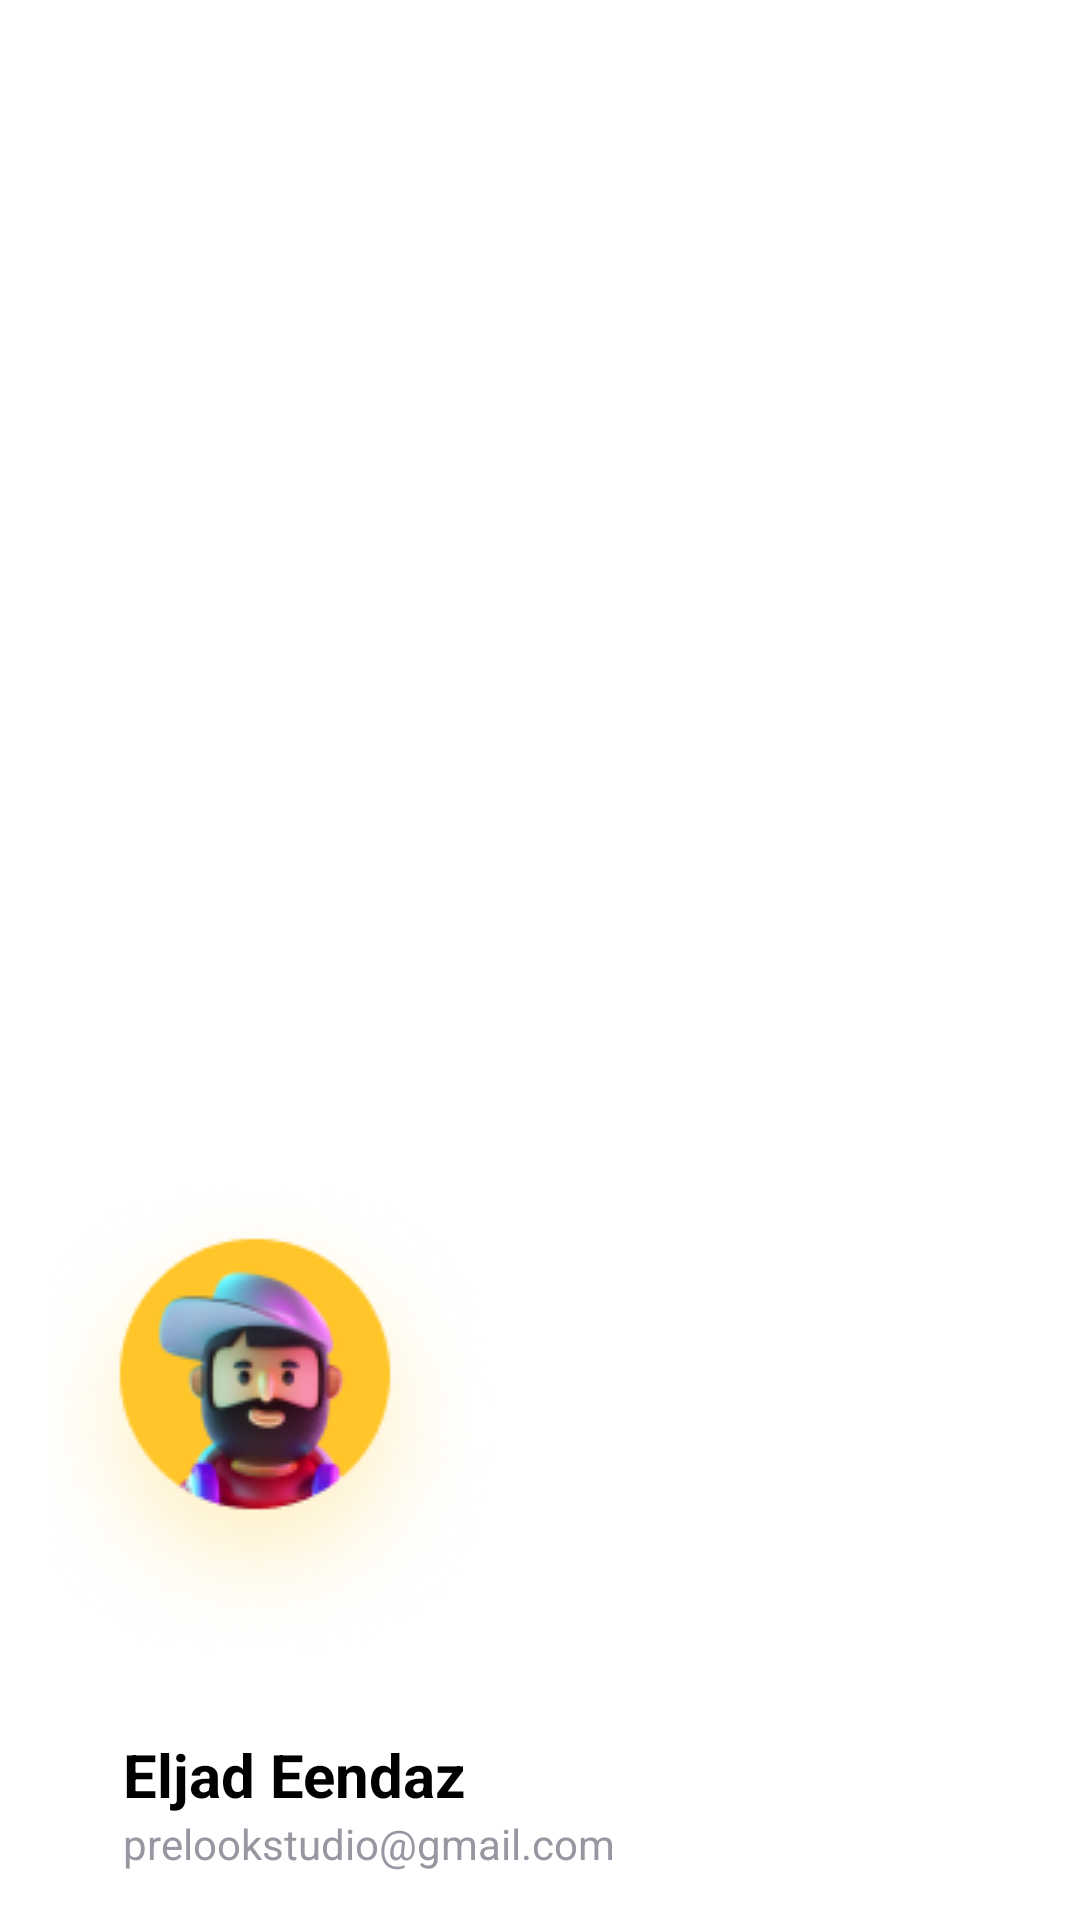

Screen size 1080w x 1920h. Icon name, then its box in pixels as (x1, y1, x2, y2):
navimg: (113, 1238, 399, 1561)
